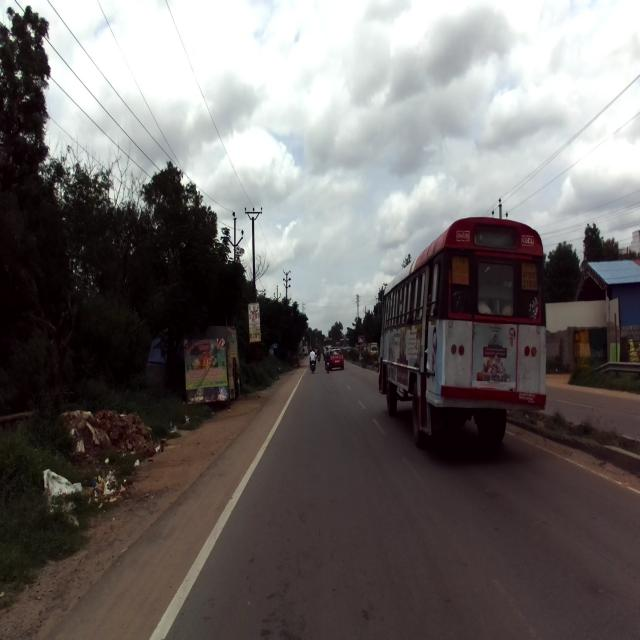bus: (378, 216, 546, 450)
